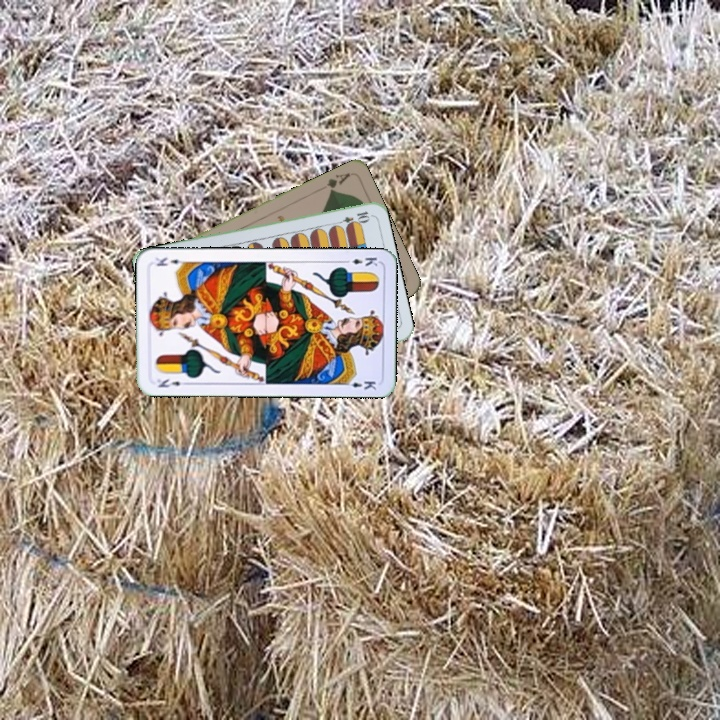E10: (332, 207, 372, 228)
EK: (339, 253, 380, 269), (153, 375, 191, 390)
GA: (322, 169, 353, 196)
